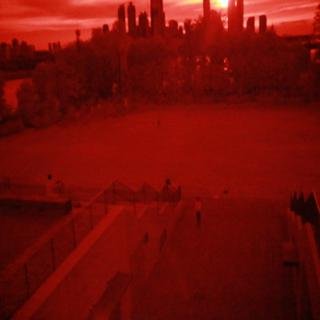person: (42, 164, 69, 208), (188, 191, 210, 235)
